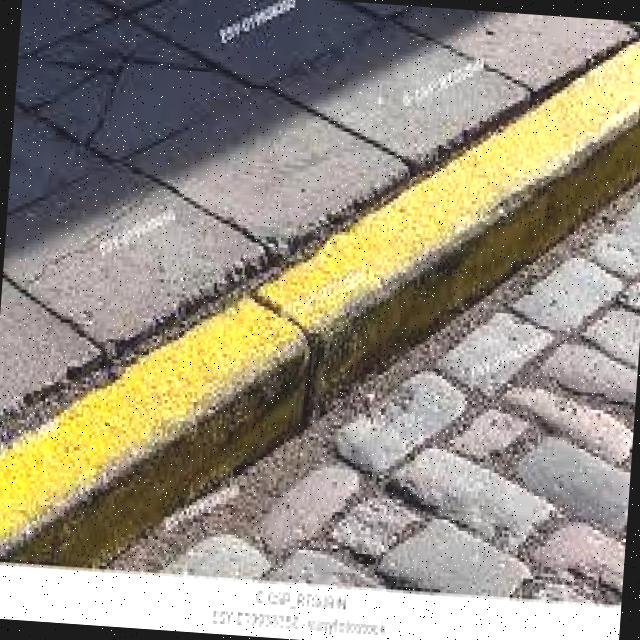curb: (260, 109, 506, 433), (470, 18, 640, 283)
